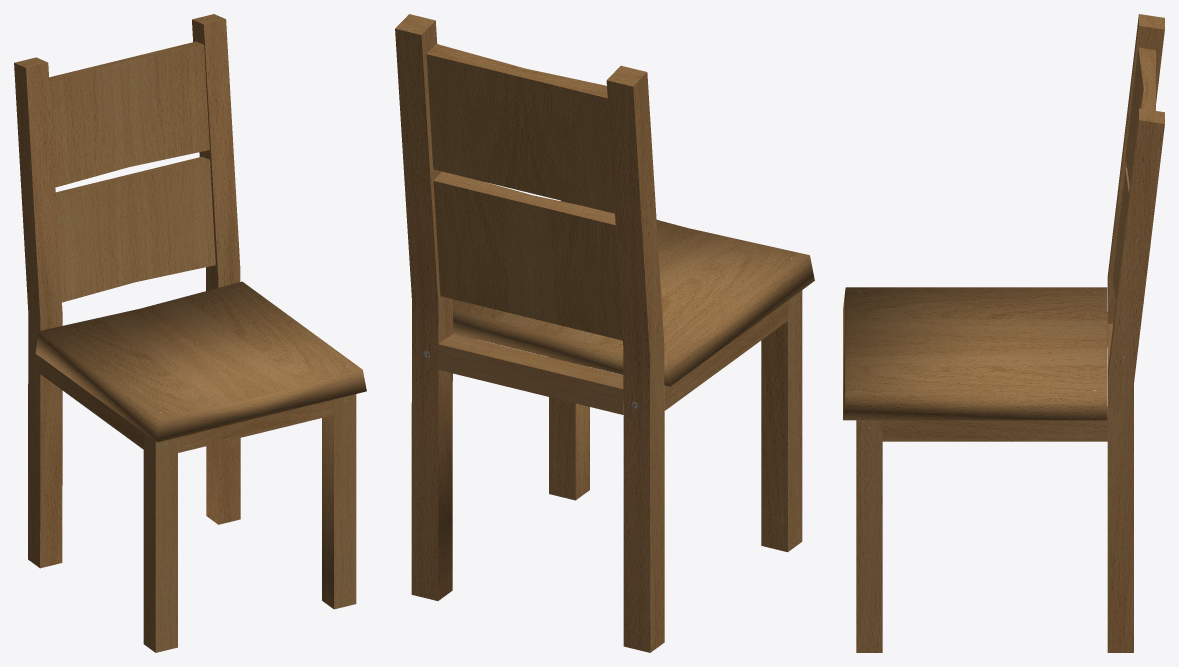
File: Wooden_Chair.obj
The picture shows the model from 3 angles, left to right: view 1: azimuth 30°, elevation 25°; view 2: azimuth 150°, elevation 25°; view 3: azimuth 270°, elevation 25°; orthographic projection. The views are drawn at different scales.
Parts seen in each view (by area): view 1: Wooden_Chair_Chair; view 2: Wooden_Chair_Chair; view 3: Wooden_Chair_Chair.
Part boxes in pixels (left/top/right/bottom): Wooden_Chair_Chair: left=14, top=14, right=366, bottom=652; Wooden_Chair_Chair: left=395, top=14, right=814, bottom=652; Wooden_Chair_Chair: left=843, top=14, right=1164, bottom=652.
Size of the model in its own units: 0.45 by 1 by 0.55.
1 material, 1 textured.
